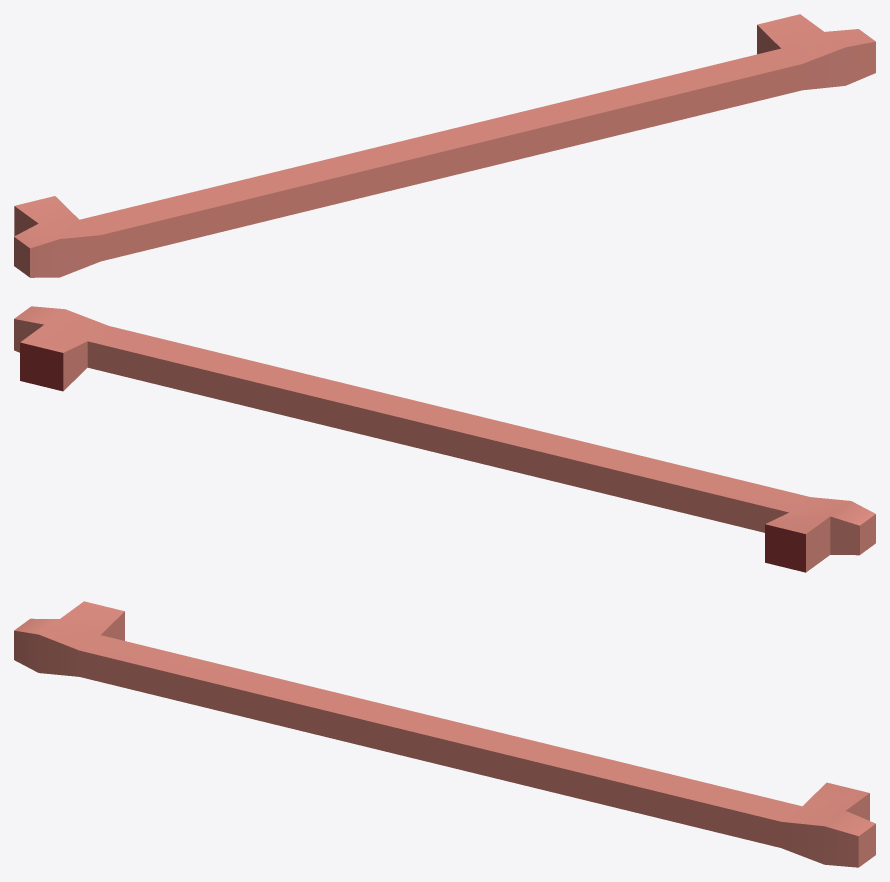
Rendered from oven_handle.fbx.
The picture shows the model from 3 angles, top to bottom: view 1: azimuth 30°, elevation 25°; view 2: azimuth 150°, elevation 25°; view 3: azimuth 330°, elevation 25°; orthographic projection.
Visible parts, largest first — view 1: pCube2; view 2: pCube2; view 3: pCube2.
Boxes of the visible parts, left/top/right/bottom form: pCube2: left=14, top=14, right=875, bottom=277; pCube2: left=14, top=306, right=875, bottom=572; pCube2: left=14, top=601, right=875, bottom=867.
Size of the model in its own units: 4.7 by 0.2045 by 0.4373.
